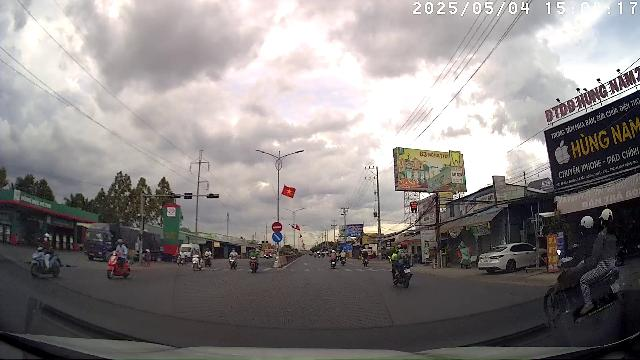102-cam-di-nguoc-chieu: (272, 222, 283, 232)
302a-huong-phai-di-vong-chuong-ngai-vat-1: (272, 232, 283, 242)
